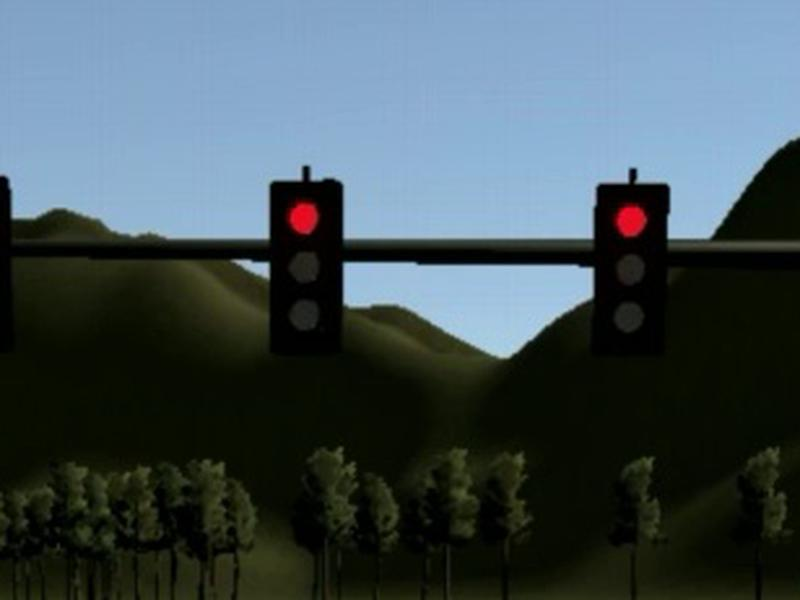Red: (595, 185, 666, 355), (271, 182, 342, 351)
